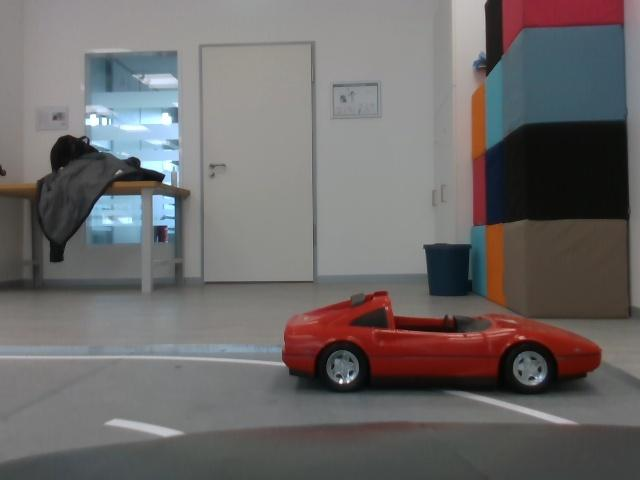car: (273, 289, 613, 398)
